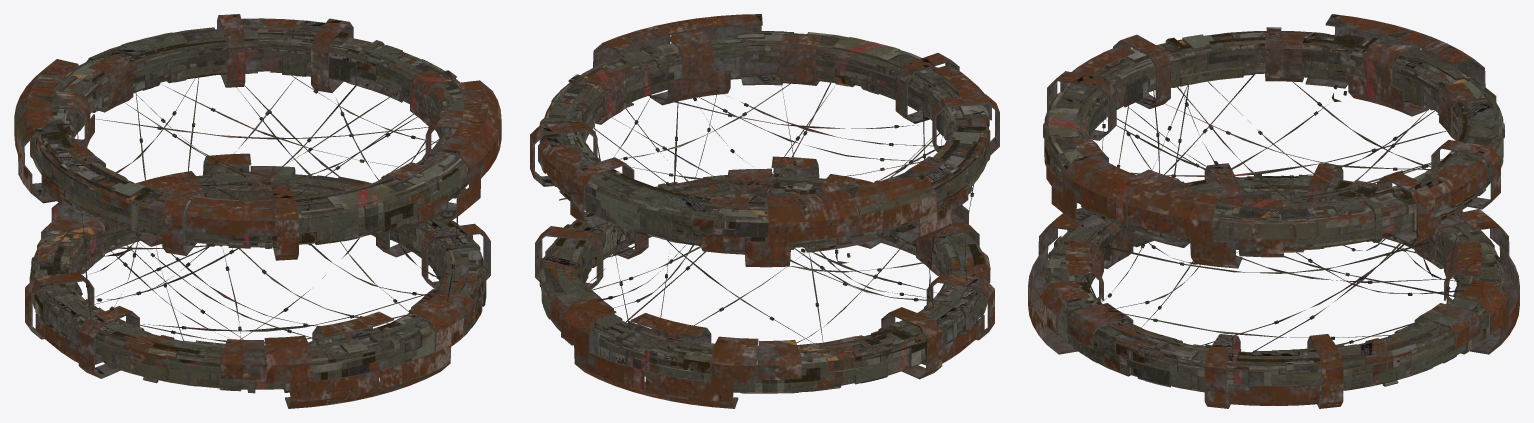
Rendered from sub-ftl-station.glb.
3 views of the same model, side by side, from view 1: azimuth 30°, elevation 25°; view 2: azimuth 150°, elevation 25°; view 3: azimuth 270°, elevation 25° (orthographic). The views are drawn at different scales.
Parts seen in each view (by area): view 1: subFtlStation-lod0; view 2: subFtlStation-lod0; view 3: subFtlStation-lod0.
Part boxes in pixels (<box>): subFtlStation-lod0: <box>14,14,501,408</box>; subFtlStation-lod0: <box>530,14,999,408</box>; subFtlStation-lod0: <box>1028,14,1519,408</box>.
Size of what is drawn, in the model's own units: 0.9879 by 0.4665 by 1.
Materials: 2 (2 with a texture image).
